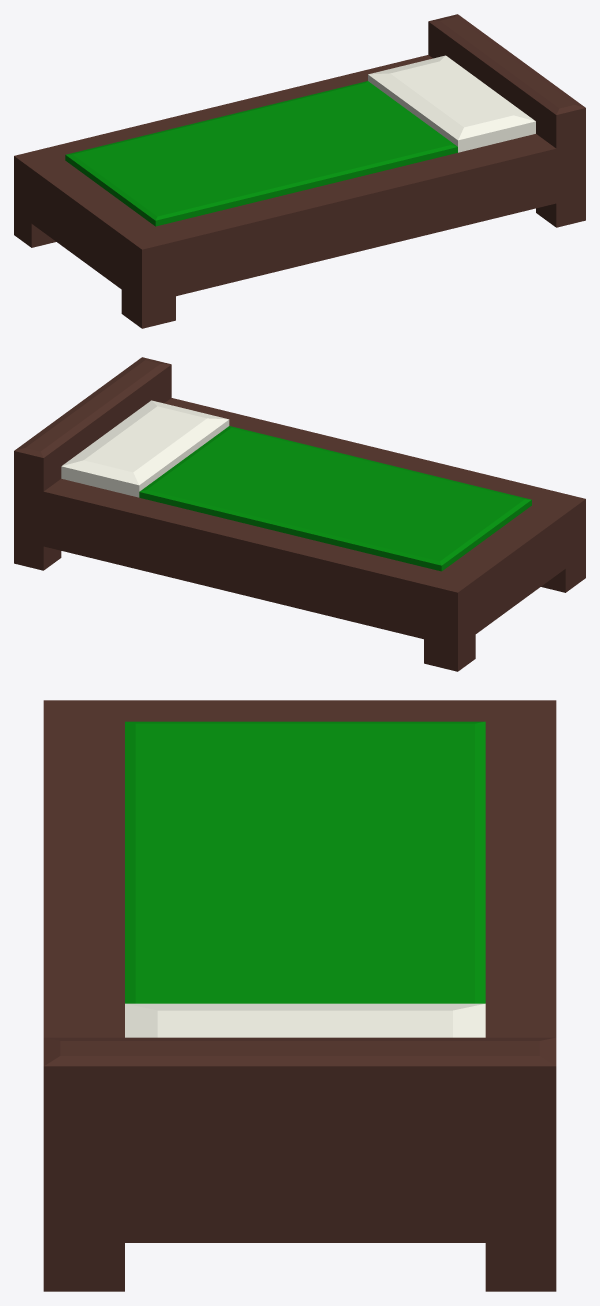
The model's file is low_poly_bed.glb.
3 renders of one model, top to bottom at view 1: azimuth 30°, elevation 25°; view 2: azimuth 150°, elevation 25°; view 3: azimuth 270°, elevation 25°, orthographic. The views are drawn at different scales.
Visible parts, largest first — view 1: Cube; view 2: Cube; view 3: Cube.
Part boxes in pixels (left/top/right/bottom): Cube: left=14, top=14, right=585, bottom=328; Cube: left=14, top=357, right=585, bottom=671; Cube: left=43, top=700, right=556, bottom=1291.
Bounding box in the file's own units: 4 × 0.9977 × 2.
